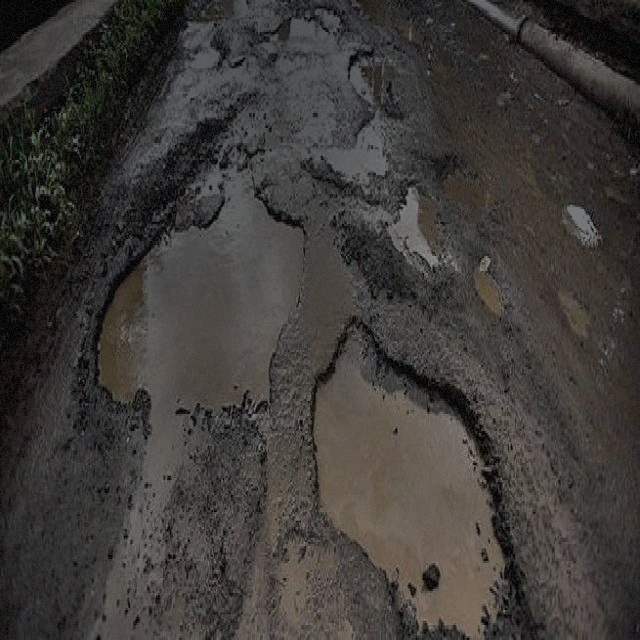pothole: (309, 311, 540, 638), (93, 171, 308, 420), (393, 177, 451, 271), (436, 152, 489, 218), (346, 43, 391, 115), (471, 254, 510, 320), (269, 10, 329, 42), (190, 32, 222, 73)
